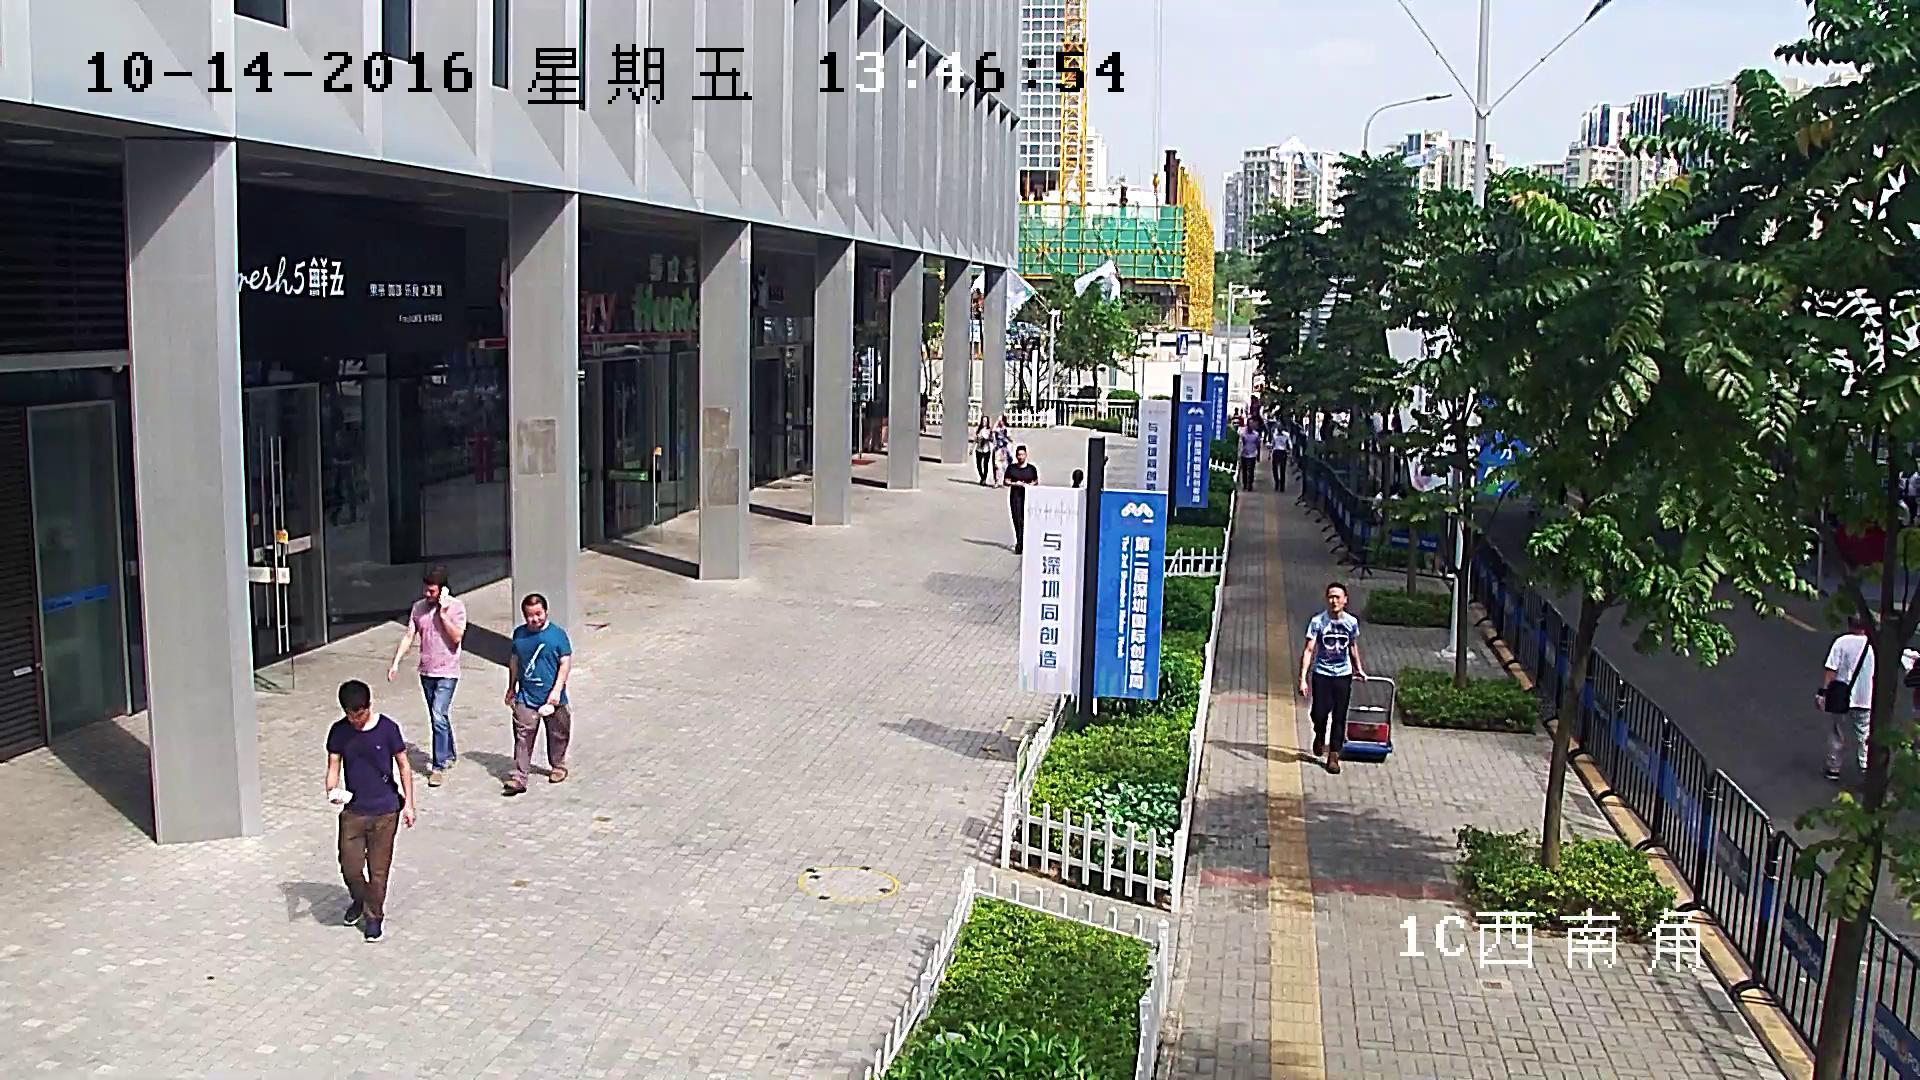person: (325, 678, 417, 943), (1296, 581, 1395, 775), (386, 572, 467, 787), (500, 593, 572, 797), (1297, 579, 1369, 774), (1813, 611, 1877, 782), (1002, 444, 1038, 555), (1267, 420, 1291, 495), (968, 415, 992, 485), (991, 413, 1013, 489), (1239, 417, 1261, 492)
